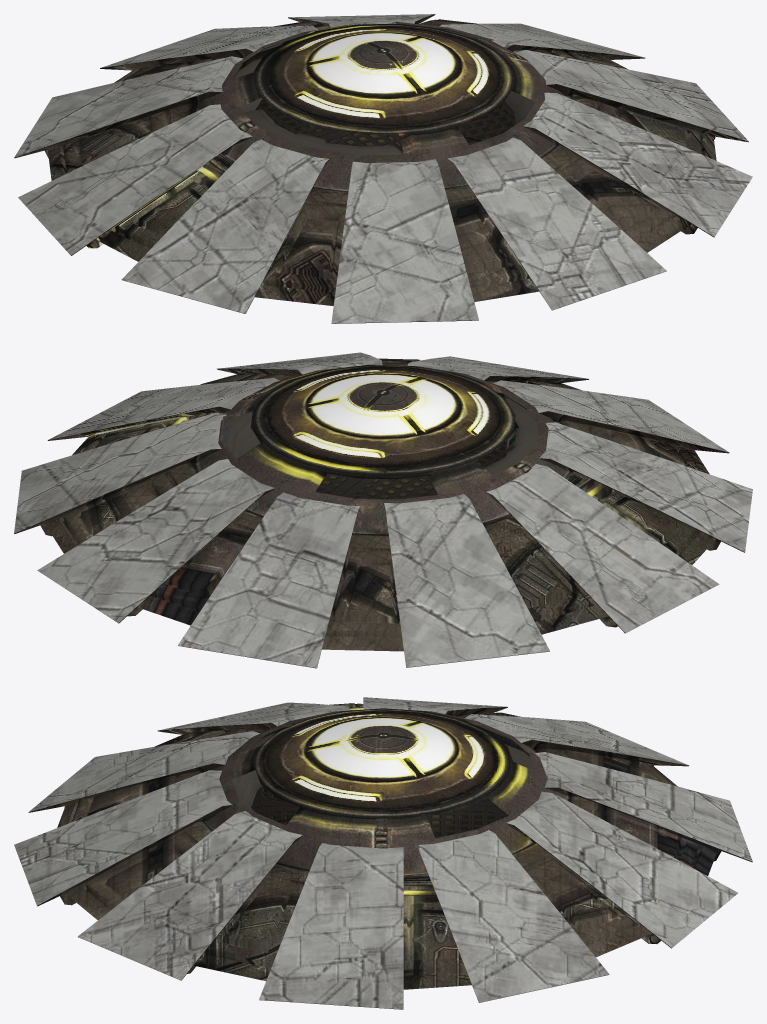
Rendered from flying-saucer.glb.
The picture shows the model from 3 angles, top to bottom: view 1: azimuth 30°, elevation 25°; view 2: azimuth 150°, elevation 25°; view 3: azimuth 270°, elevation 25°; orthographic projection.
Parts seen in each view (by area): view 1: Form23, Form16, Form20, Form52, Form45; view 2: Form23, Form16, Form20, Form52, Form45; view 3: Form23, Form16, Form20, Form52, Form45.
Part boxes in pixels (box(x1,y1,x2,y2)): Form23: box(14, 14, 752, 323); Form16: box(14, 14, 748, 323); Form20: box(232, 29, 535, 154); Form52: box(255, 100, 515, 152); Form45: box(234, 50, 535, 153); Form23: box(14, 352, 752, 667); Form16: box(14, 358, 744, 668); Form20: box(223, 392, 537, 499); Form52: box(315, 442, 506, 499); Form45: box(227, 392, 537, 475); Form23: box(14, 697, 752, 1009); Form16: box(28, 703, 752, 1009); Form20: box(231, 721, 535, 838); Form52: box(251, 786, 508, 837); Form45: box(231, 733, 535, 807).
Bounding box in the file's own units: 459 × 110 × 459.
13 materials, 9 textured.
